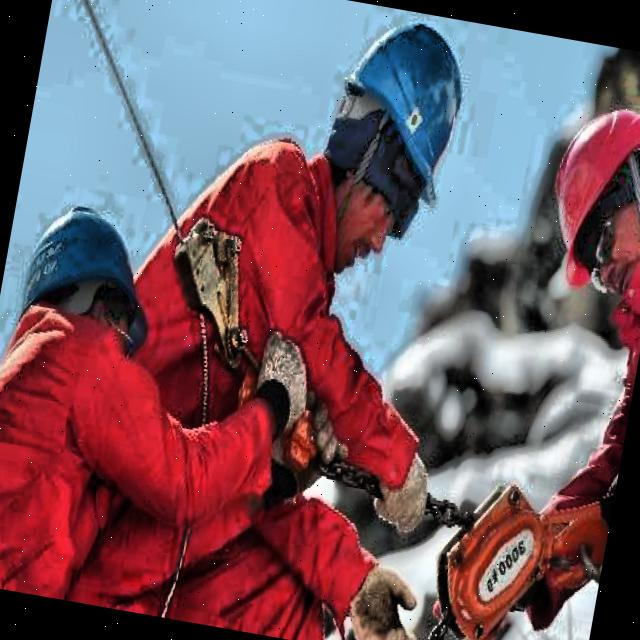helmet: (286, 9, 493, 290), (0, 173, 179, 404), (520, 81, 640, 330)
